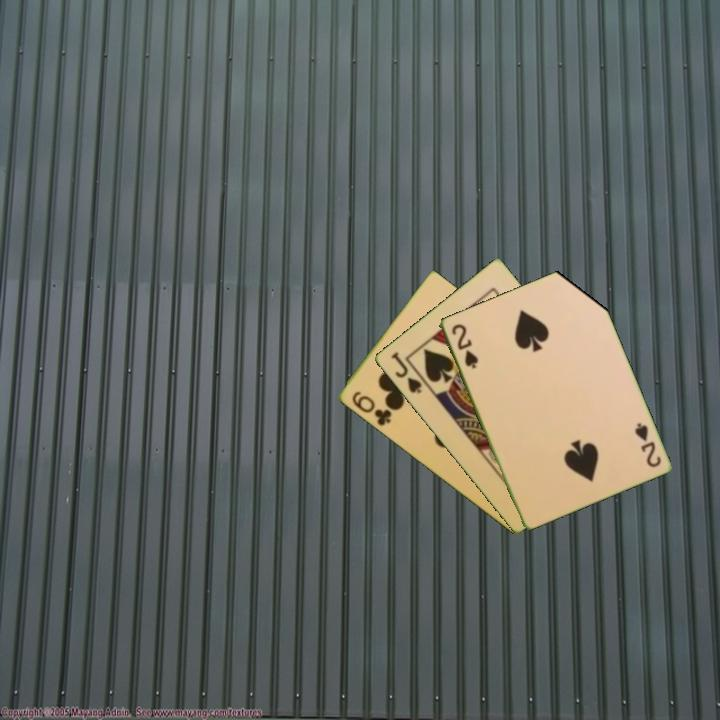2s: (448, 320, 481, 371), (631, 419, 664, 470)
6c: (348, 387, 394, 429)
Js: (387, 348, 424, 397)
